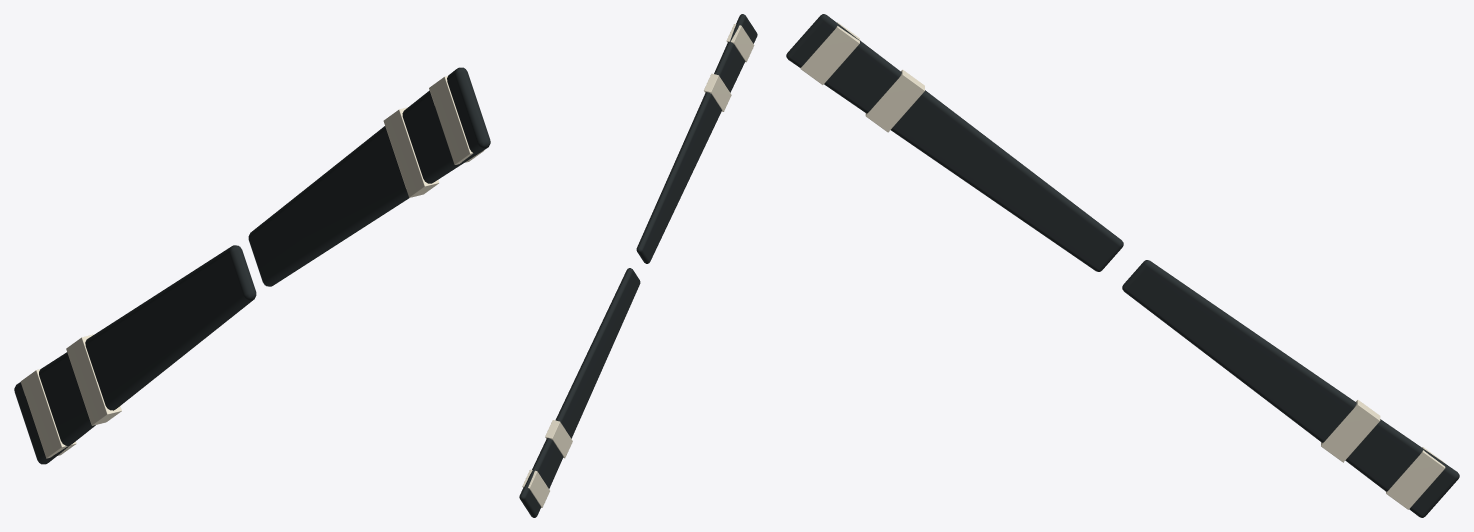
Rendered from AS350TailRotor.fbx.
The picture shows the model from 3 angles, left to right: view 1: azimuth 30°, elevation 25°; view 2: azimuth 150°, elevation 25°; view 3: azimuth 270°, elevation 25°; orthographic projection. The views are drawn at different scales.
Visible parts, largest first — view 1: AS350TailRotor; view 2: AS350TailRotor; view 3: AS350TailRotor.
Boxes of the visible parts, box(x1,y1,x2,y2) form: AS350TailRotor: box(14, 67, 490, 464); AS350TailRotor: box(519, 14, 757, 517); AS350TailRotor: box(786, 14, 1459, 517).
Size of the model in its own units: 2.8 by 126 by 153.
